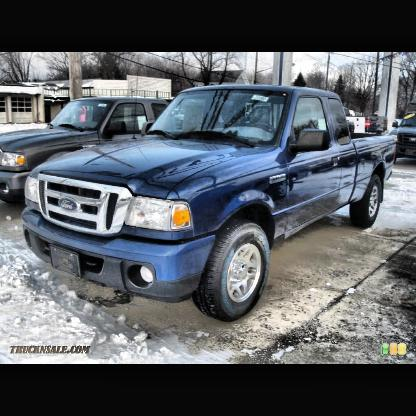Ford Ranger SuperCab 2011: (23, 85, 397, 323)
